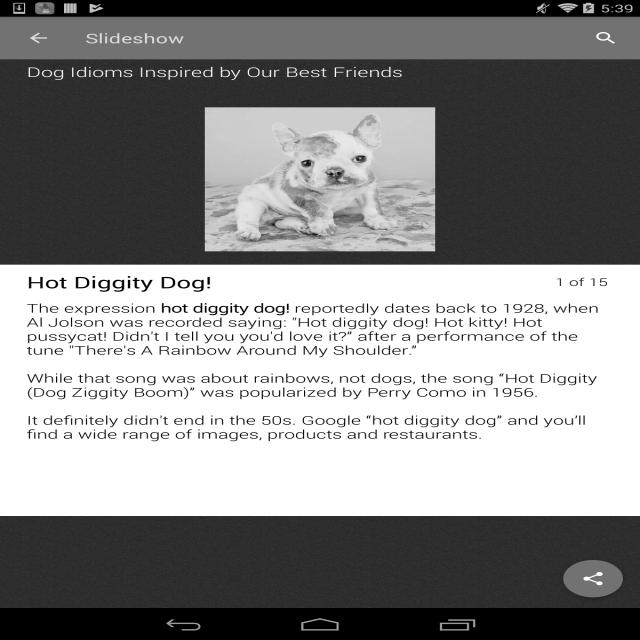ImageButton: (558, 558, 628, 598), (581, 25, 625, 49), (24, 27, 57, 48)
ImageView: (205, 105, 432, 252)
TextView: (20, 300, 622, 357), (18, 409, 610, 446), (18, 373, 610, 399), (18, 64, 394, 80), (17, 268, 233, 291), (82, 25, 199, 46)
